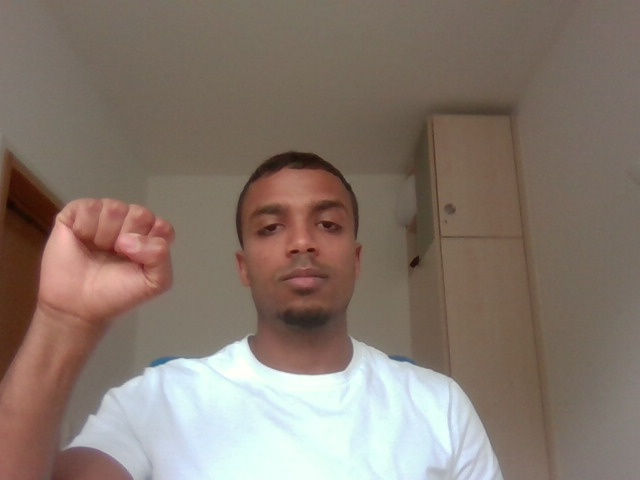neutral: (33, 175, 198, 330)
